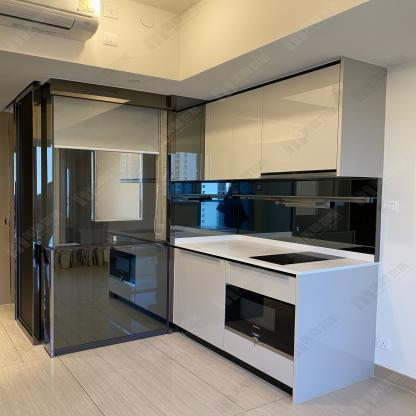Cupboard: (204, 58, 390, 183)
Fridge: (46, 147, 167, 356)
Oven: (224, 282, 295, 362), (226, 287, 300, 360), (112, 249, 134, 284)
Stove: (247, 251, 350, 265)
